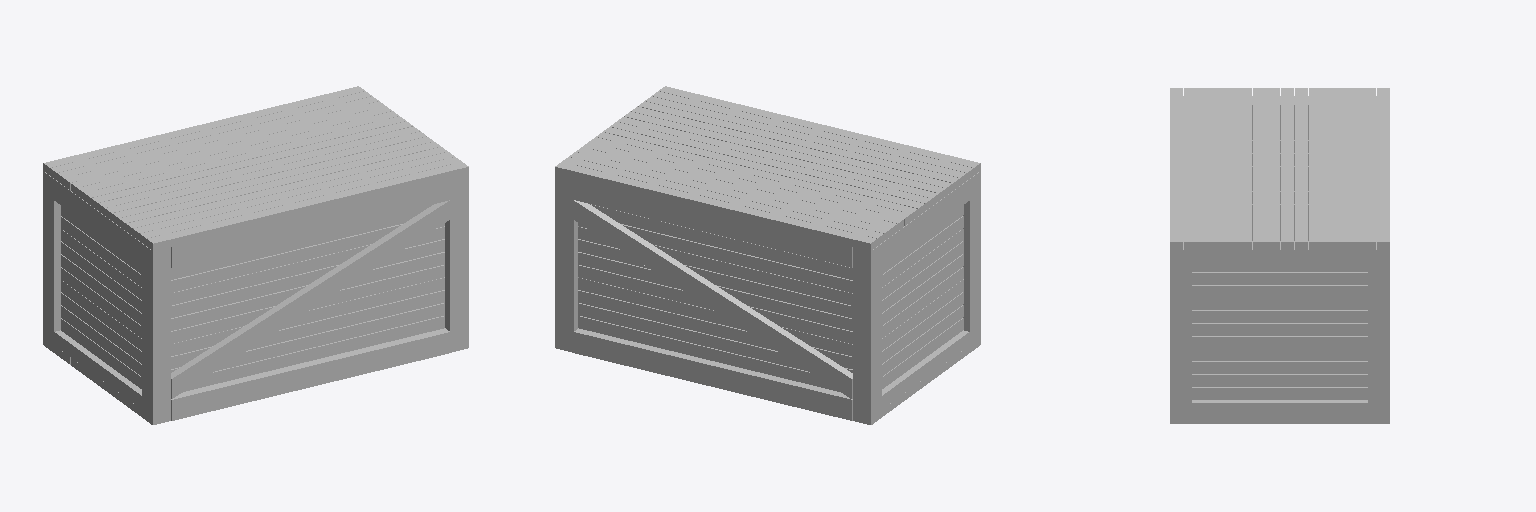
The model's file is chest.obj.
The picture shows the model from 3 angles: view 1: azimuth 30°, elevation 25°; view 2: azimuth 150°, elevation 25°; view 3: azimuth 270°, elevation 25°; orthographic projection.
Parts seen in each view (by area): view 1: WoodenBox_WoodenBox_WoodenBox7, WoodenBox_WoodenBox_WoodenBox1, WoodenBox_WoodenBox_WoodenBox5, WoodenBox_WoodenBox_WoodenBox2, WoodenBox_WoodenBox_WoodenBox8, WoodenBox_WoodenBox_WoodenBox4, WoodenBox_WoodenBox_WoodenBox3, WoodenBox_WoodenBox_WoodenBox6; view 2: WoodenBox_WoodenBox_WoodenBox7, WoodenBox_WoodenBox_WoodenBox1, WoodenBox_WoodenBox_WoodenBox5, WoodenBox_WoodenBox_WoodenBox2, WoodenBox_WoodenBox_WoodenBox8, WoodenBox_WoodenBox_WoodenBox4, WoodenBox_WoodenBox_WoodenBox3, WoodenBox_WoodenBox_WoodenBox6; view 3: WoodenBox_WoodenBox_WoodenBox7, WoodenBox_WoodenBox_WoodenBox2, WoodenBox_WoodenBox_WoodenBox6, WoodenBox_WoodenBox_WoodenBox3.
Part boxes in pixels (x1,y1,x2,y2): WoodenBox_WoodenBox_WoodenBox7: (43,86,468,416); WoodenBox_WoodenBox_WoodenBox1: (171,204,444,391); WoodenBox_WoodenBox_WoodenBox5: (171,179,449,420); WoodenBox_WoodenBox_WoodenBox2: (61,206,141,388); WoodenBox_WoodenBox_WoodenBox8: (43,171,170,424); WoodenBox_WoodenBox_WoodenBox4: (171,200,449,398); WoodenBox_WoodenBox_WoodenBox3: (445,175,468,352); WoodenBox_WoodenBox_WoodenBox6: (54,179,142,408); WoodenBox_WoodenBox_WoodenBox7: (555,86,980,416); WoodenBox_WoodenBox_WoodenBox1: (578,204,852,391); WoodenBox_WoodenBox_WoodenBox5: (574,179,852,420); WoodenBox_WoodenBox_WoodenBox2: (882,205,963,388); WoodenBox_WoodenBox_WoodenBox8: (853,171,980,424); WoodenBox_WoodenBox_WoodenBox4: (574,200,852,398); WoodenBox_WoodenBox_WoodenBox3: (555,175,578,352); WoodenBox_WoodenBox_WoodenBox6: (882,179,969,408); WoodenBox_WoodenBox_WoodenBox7: (1170,88,1389,249); WoodenBox_WoodenBox_WoodenBox2: (1192,127,1367,399); WoodenBox_WoodenBox_WoodenBox6: (1192,96,1367,423); WoodenBox_WoodenBox_WoodenBox3: (1170,241,1389,423).
Size of the model in its own units: 3.37 by 1.85 by 2.03.